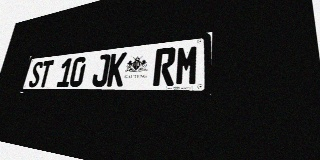0: (68, 56, 87, 87)
1: (56, 58, 74, 87)
J: (91, 54, 111, 87)
K: (106, 52, 127, 86)
M: (174, 44, 199, 86)
R: (153, 47, 176, 86)
S: (28, 61, 44, 87)
T: (37, 60, 54, 87)
